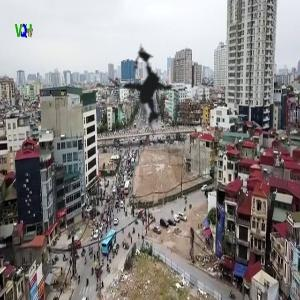drone: (73, 21, 217, 165)
